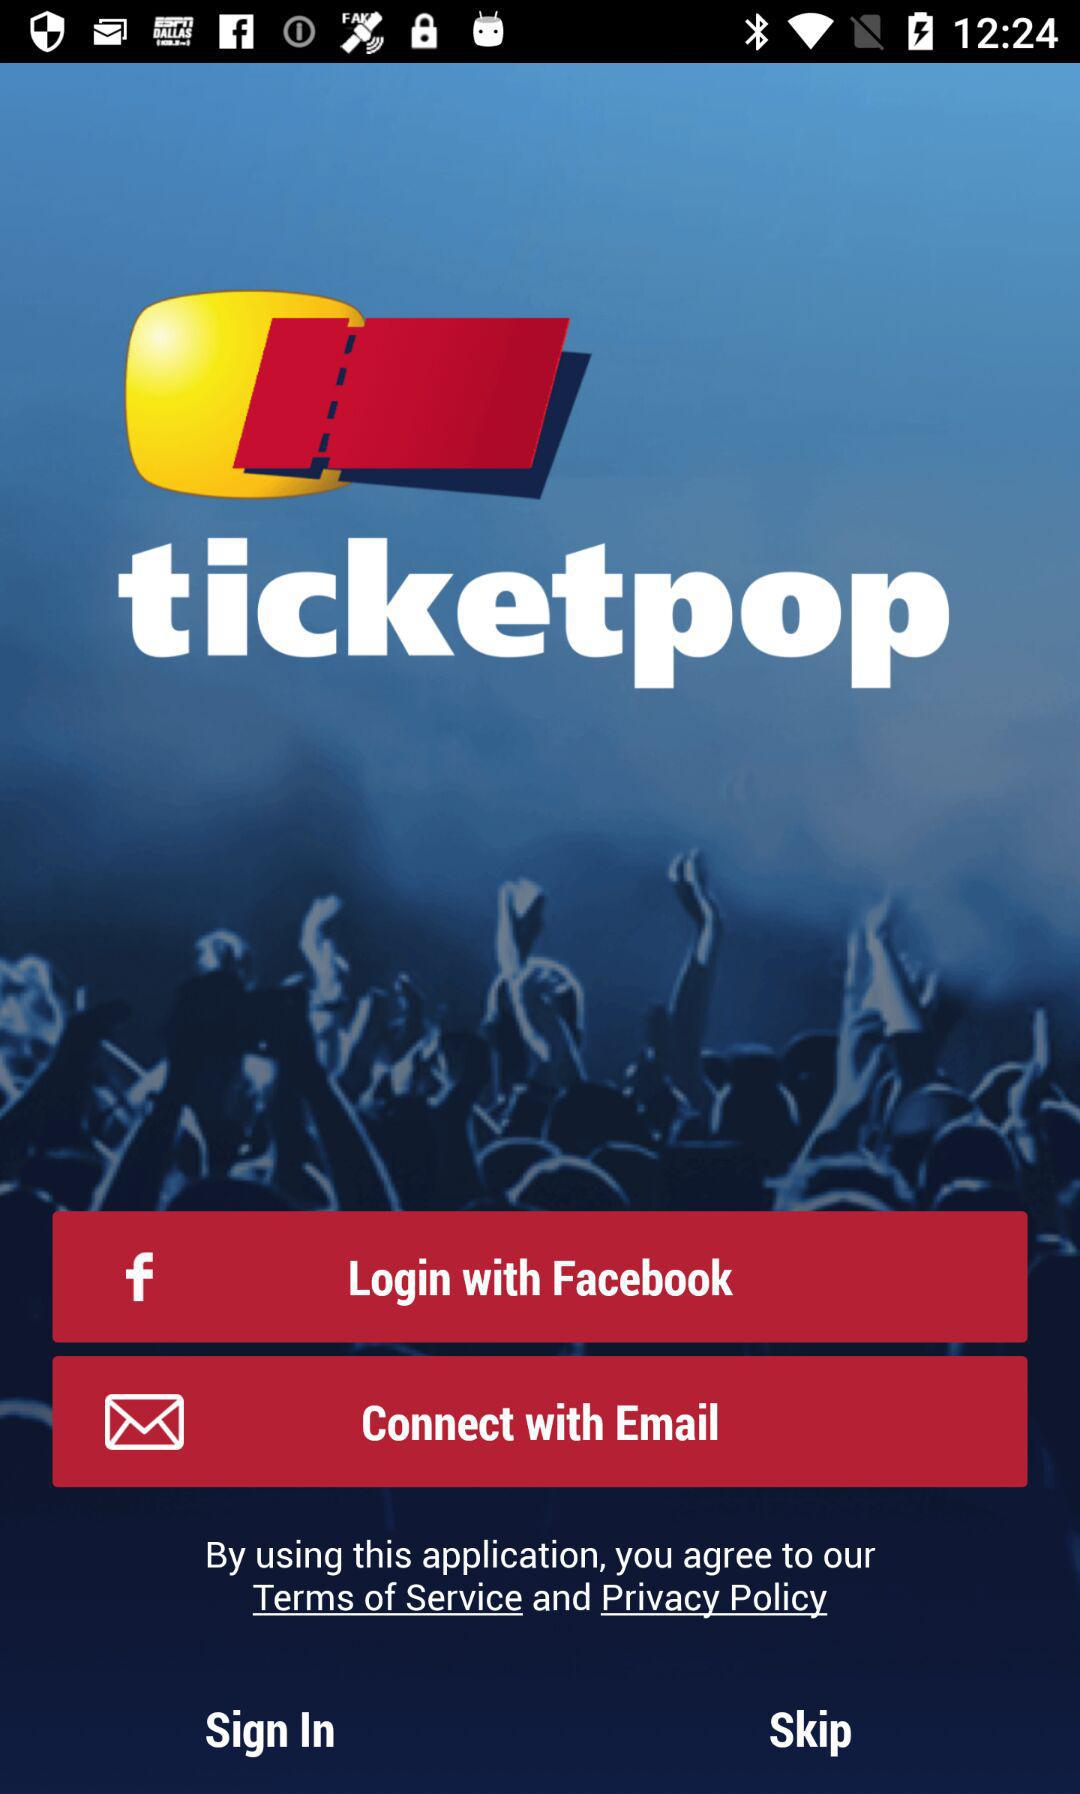BackgroundImage: (1, 64, 1080, 1794)
Image: (123, 291, 593, 505)
Text: (118, 537, 951, 689), (208, 1539, 876, 1618), (205, 1707, 336, 1759), (769, 1708, 853, 1758)
TextButton: (53, 1356, 1027, 1488), (53, 1212, 1029, 1343)
UpperTaskBar: (1, 1, 1080, 64)
